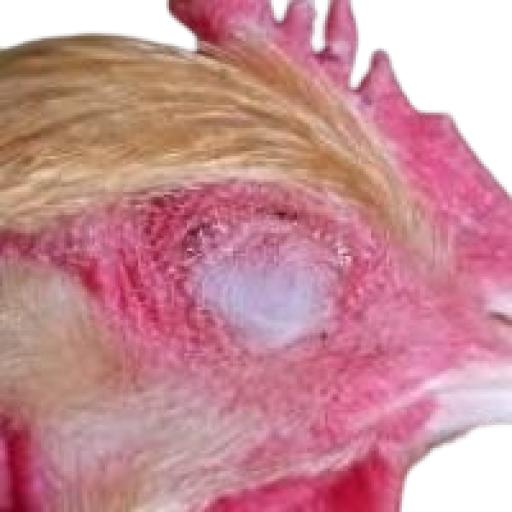disease: (136, 146, 426, 376)
